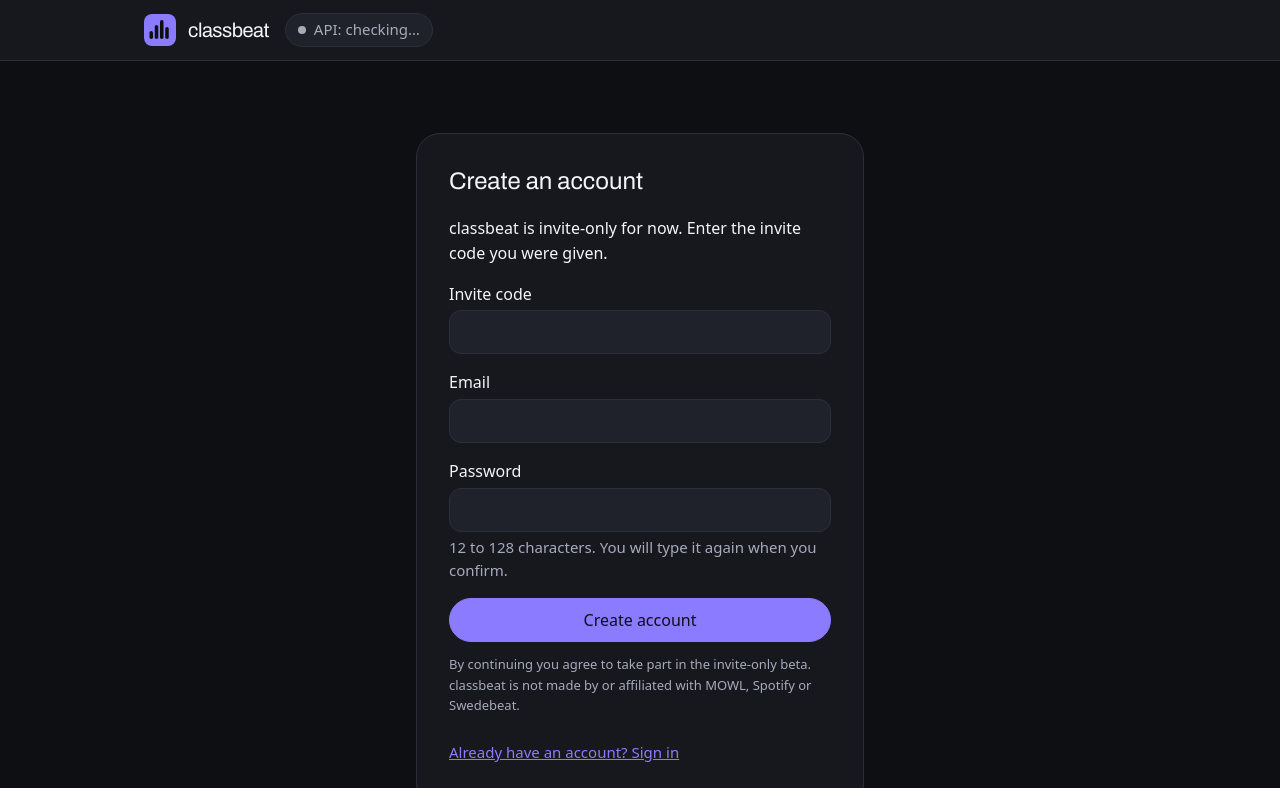
Test: sign-up › shows the invite error in plain words
The image size is (1280, 788).
In the field labelled "Email": [640, 421] box top-left (449, 399), bottom-right (831, 443), type "ann@example.test"
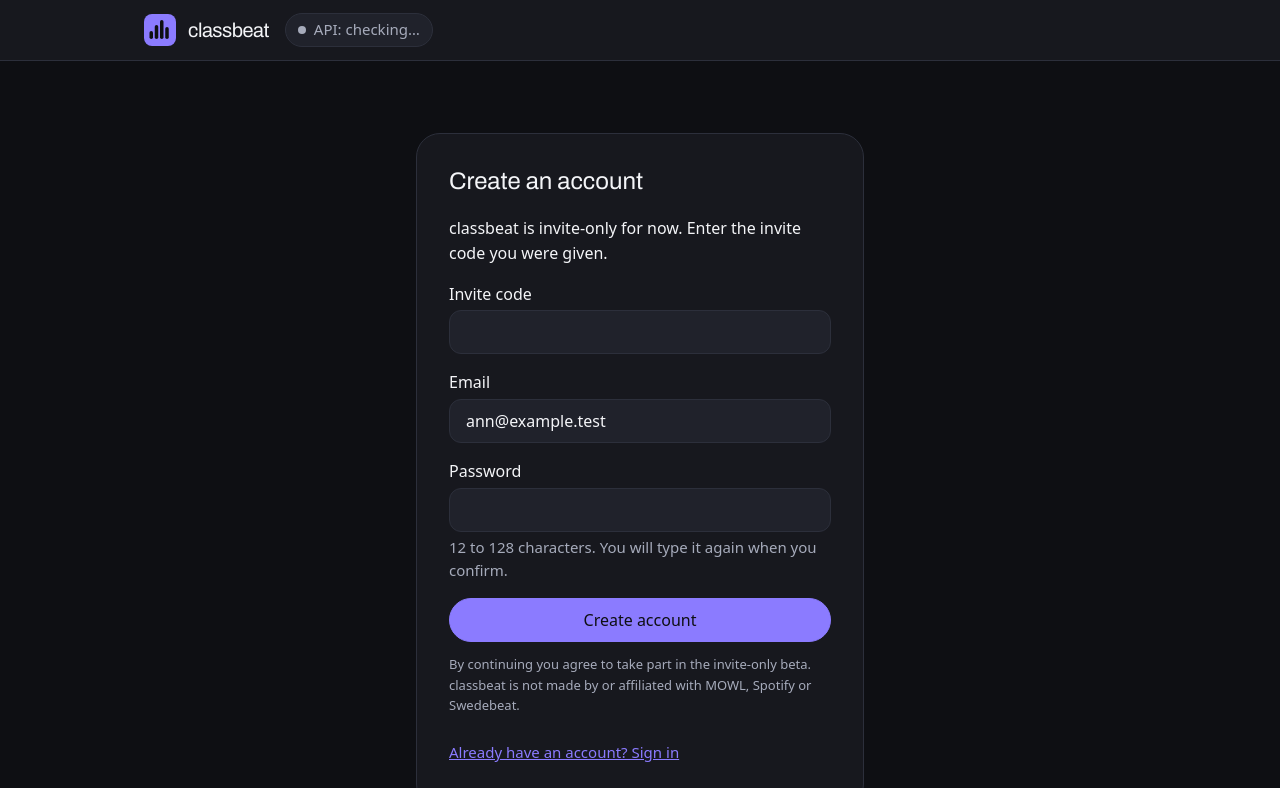
In the password field labelled "Password": [640, 510] box top-left (449, 488), bottom-right (831, 532), type "correct horse battery"
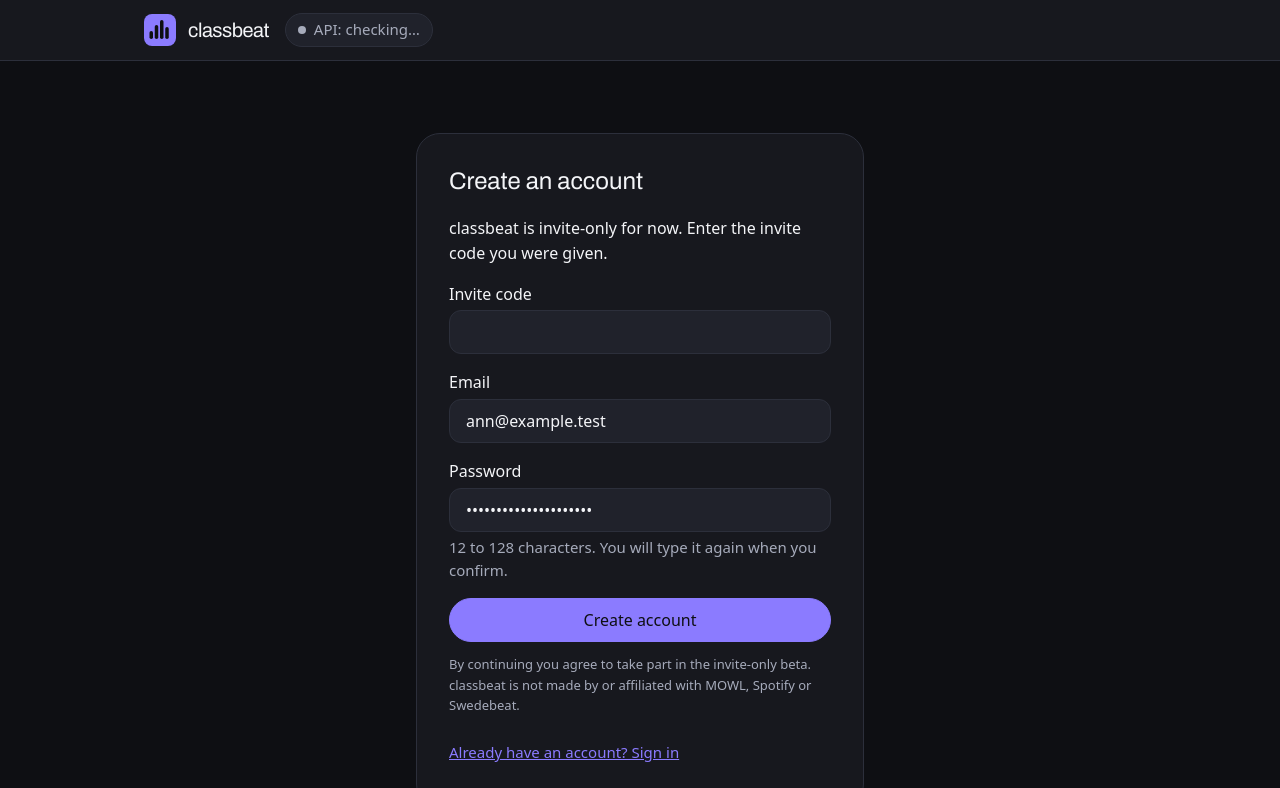
Click the button "Create account": [640, 620] box top-left (449, 598), bottom-right (831, 642)
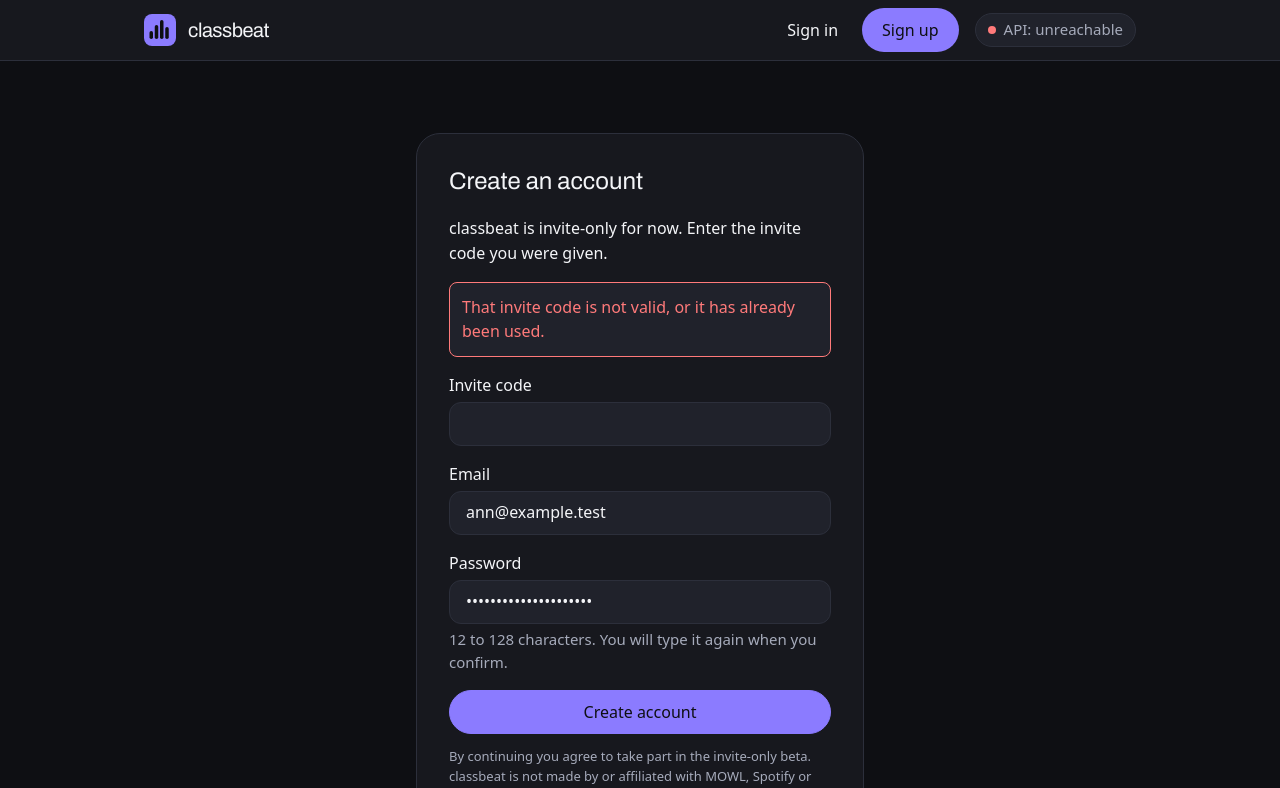
Check: the message "That invite code is not valid, or it has already been used." is shown, box top-left (449, 282), bottom-right (831, 357)
